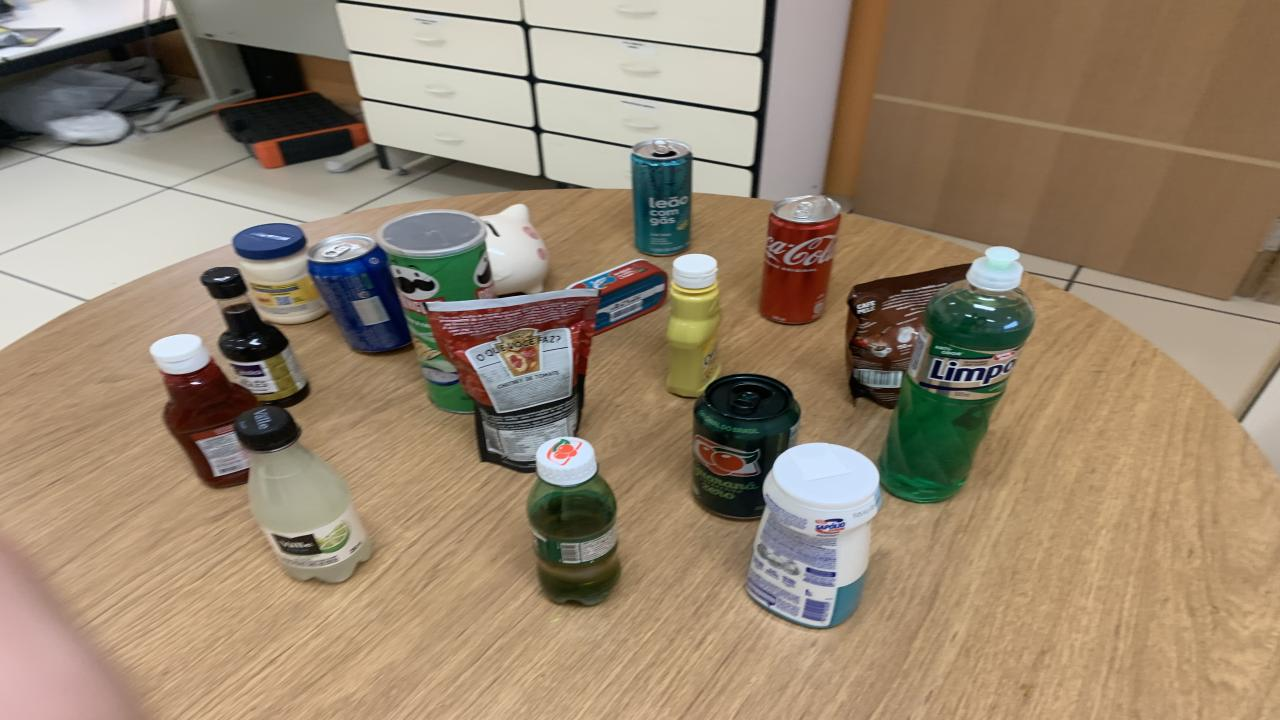Cleaner-Cleanup_Items: (748, 442, 882, 628)
Coffee-Pantry_Items: (845, 264, 970, 409)
Coke-Drinks: (760, 195, 840, 324)
Detergent-Cleanup_Items: (878, 248, 1035, 502)
English_Sauce-Pantry_Items: (202, 266, 310, 407)
Guarana-Drinks: (528, 437, 620, 606)
Guarana_Can-Drinks: (692, 373, 800, 519)
Ketchup-Pantry_Items: (150, 334, 258, 488)
Mayonnaise-Pantry_Items: (232, 223, 328, 324)
Mustard-Pantry_Items: (668, 255, 720, 398)
Pig_Safe-Miscellaneous: (480, 204, 548, 294)
Pringles-Snacks: (378, 210, 495, 412)
Soda-Drinks: (232, 405, 370, 583)
Tea-Drinks: (630, 139, 692, 255)
Tomato_Sauce-Pantry_Items: (425, 289, 600, 471)
Tonic-Drinks: (308, 234, 410, 352)
Tuna_Can-Pantry_Items: (568, 259, 668, 334)
